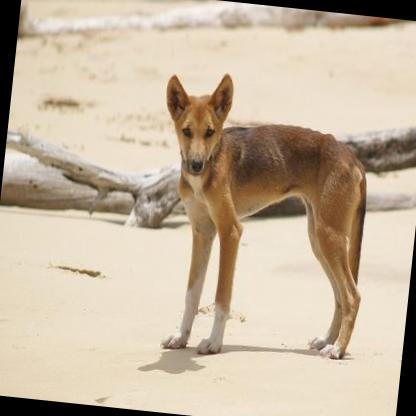dingo: (136, 66, 384, 370)
